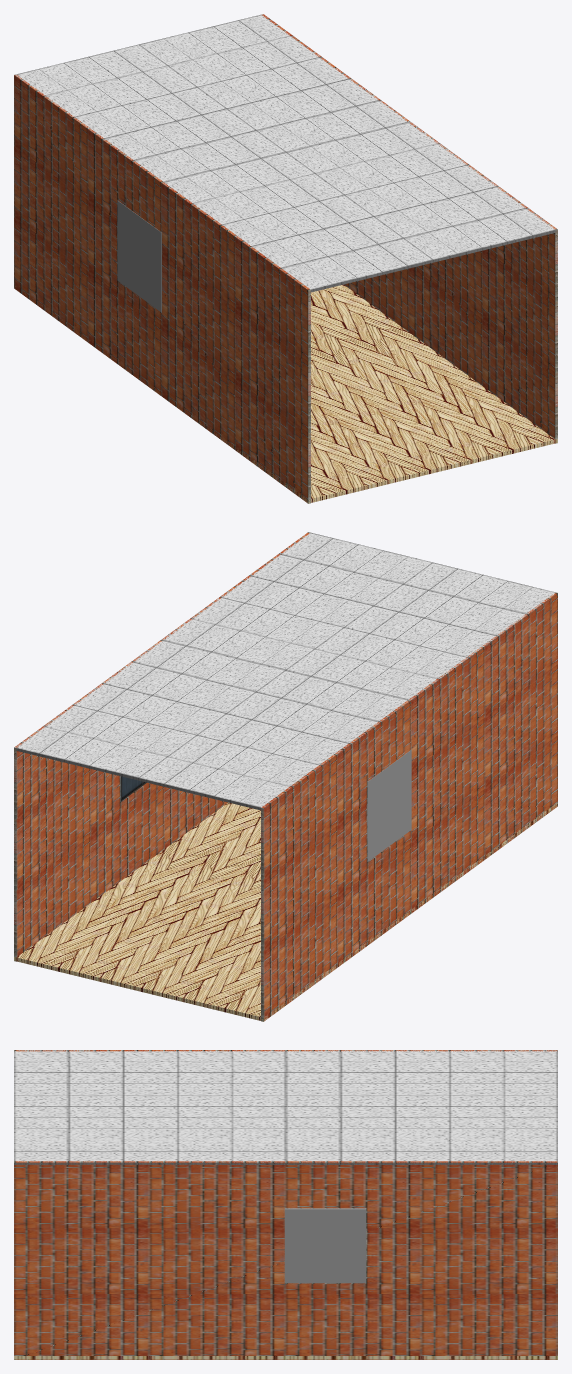
File: hallway.fbx
3 views of the same model, one above another, from view 1: azimuth 30°, elevation 25°; view 2: azimuth 150°, elevation 25°; view 3: azimuth 270°, elevation 25° (orthographic). The views are drawn at different scales.
Parts seen in each view (by area): view 1: Floor2, Wall1, Floor1, Wall2, pCube1; view 2: Floor2, Wall1, Floor1, Wall2, pCube1; view 3: Wall2, Floor2, pCube2, Floor1, Wall1.
Boxes of the visible parts, left/top/right/bottom form: Floor2: left=15, top=14, right=557, bottom=292; Wall1: left=14, top=74, right=310, bottom=503; Floor1: left=15, top=284, right=557, bottom=503; Wall2: left=261, top=14, right=557, bottom=443; pCube1: left=117, top=200, right=161, bottom=312; Floor2: left=14, top=532, right=557, bottom=810; Wall1: left=261, top=592, right=557, bottom=1021; Floor1: left=14, top=802, right=557, bottom=1021; Wall2: left=14, top=532, right=310, bottom=961; pCube1: left=367, top=750, right=411, bottom=861; Wall2: left=14, top=1161, right=557, bottom=1359; Floor2: left=14, top=1050, right=557, bottom=1164; pCube2: left=284, top=1208, right=366, bottom=1283; Floor1: left=14, top=1356, right=557, bottom=1359; Wall1: left=14, top=1050, right=557, bottom=1051.
Size of the model in its own units: 0.0494 by 0.04 by 0.1.
Materials: 5 (4 with a texture image).
